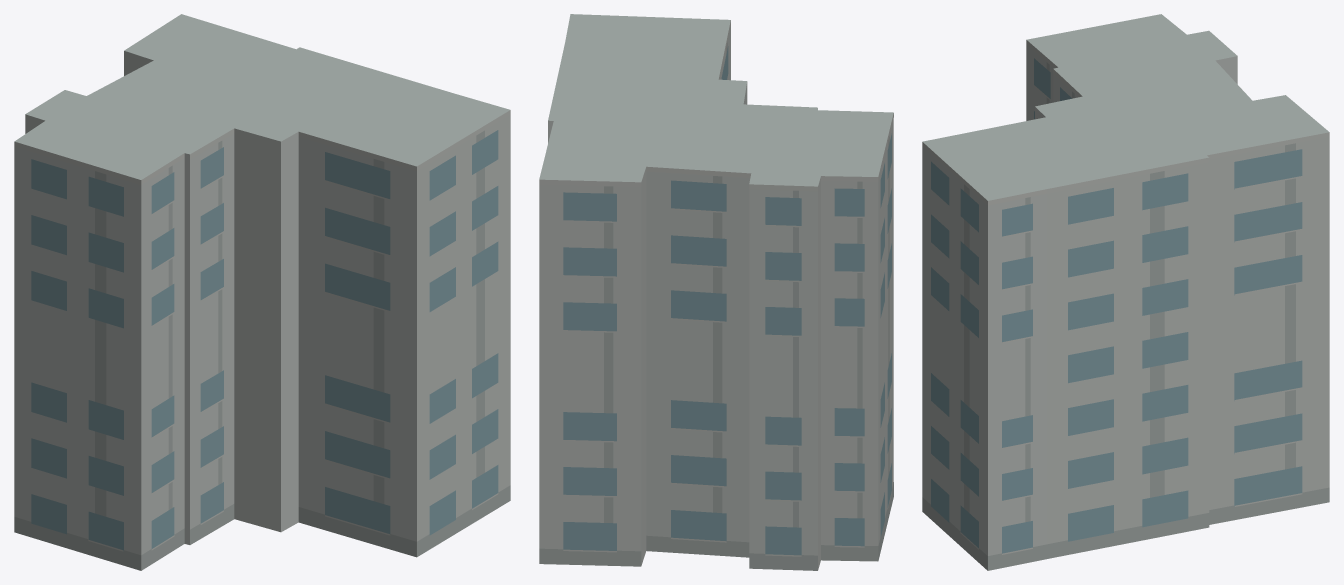
Rendered from survey-upis-33040947.glb.
3 views of the same model, side by side, from view 1: azimuth 30°, elevation 25°; view 2: azimuth 150°, elevation 25°; view 3: azimuth 270°, elevation 25° (orthographic). The views are drawn at different scales.
Visible parts, largest first — view 1: survey-upis-33040947.tmp; view 2: survey-upis-33040947.tmp; view 3: survey-upis-33040947.tmp.
Part boxes in pixels (bbox=[...]): survey-upis-33040947.tmp: bbox=[14, 14, 510, 570]; survey-upis-33040947.tmp: bbox=[539, 14, 893, 570]; survey-upis-33040947.tmp: bbox=[922, 14, 1329, 570].
Size of the model in its own units: 20.92 by 19.3 by 19.27.
